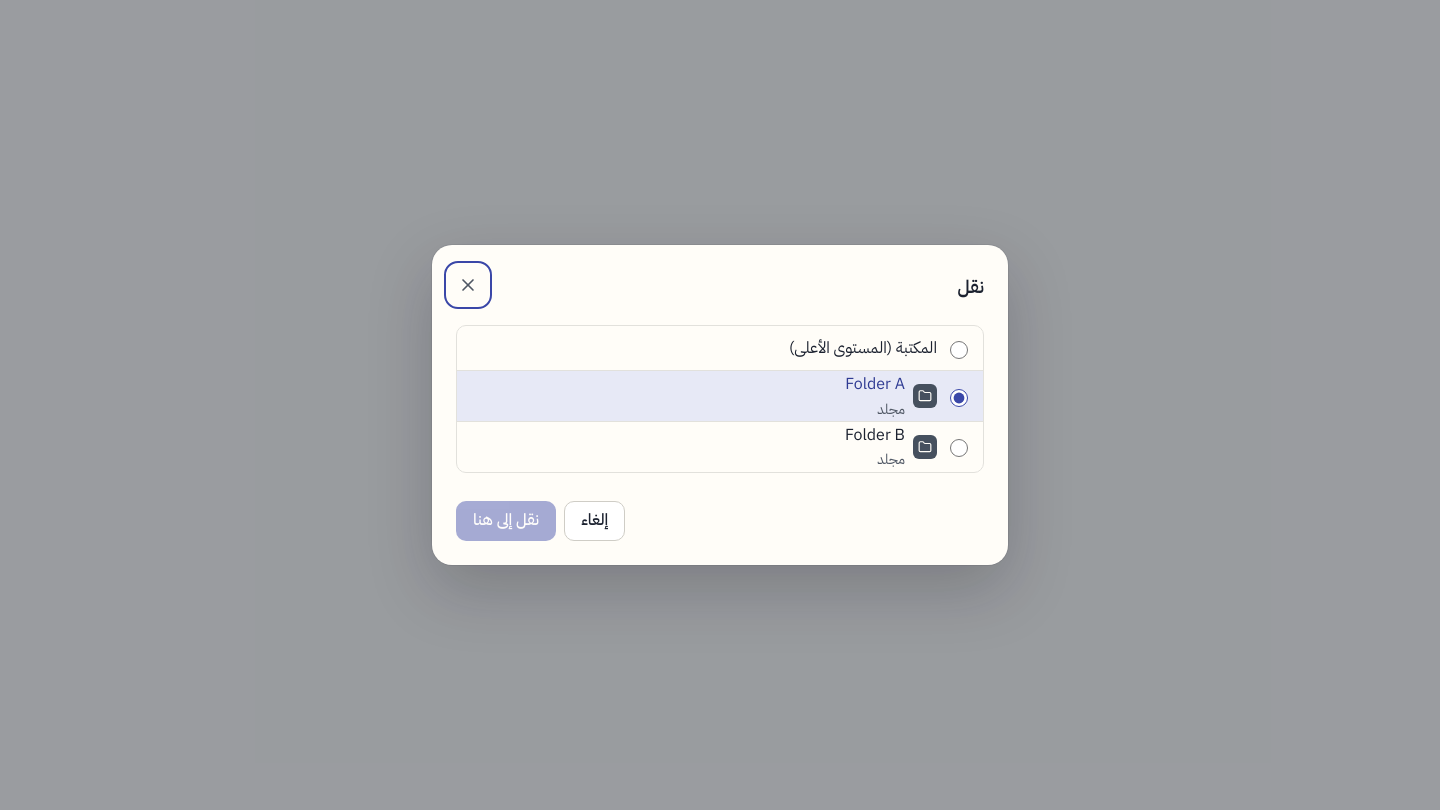
Test: MoveDialog › moving: confirming the current place stays disabled until another destination is picked
This screenshot has width=1440, height=810.
Expected: the button "نقل إلى هنا" is disabled, left=456, top=501, right=556, bottom=541
Click the radio button labelled "Folder B مجلد": point(959, 448) left=950, top=439, right=968, bottom=457
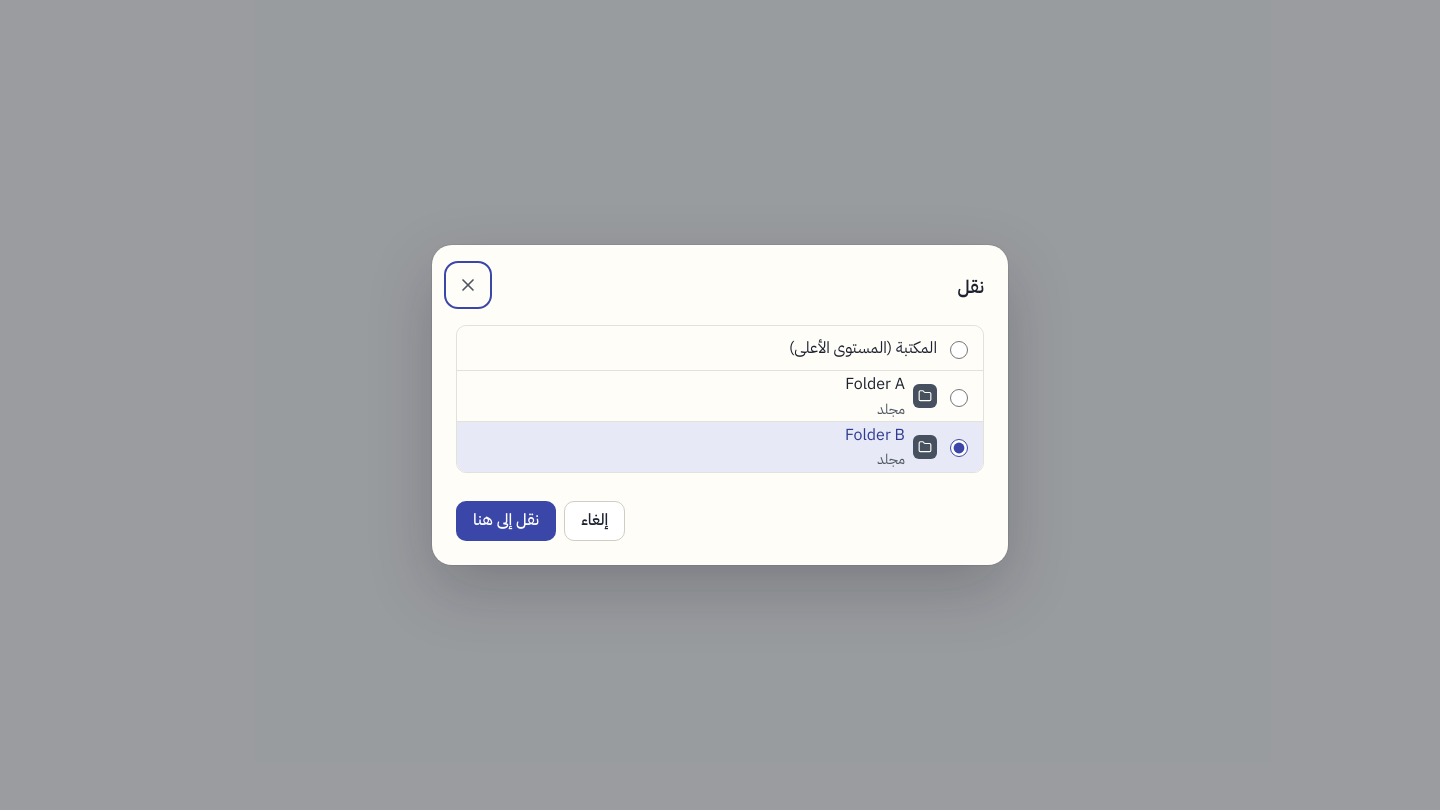
Now the button "نقل إلى هنا" is enabled, box left=456, top=501, right=556, bottom=541
